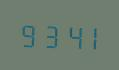four: (58, 19, 77, 50)
nine: (18, 18, 37, 49)
one: (78, 20, 97, 51)
three: (38, 19, 57, 49)
